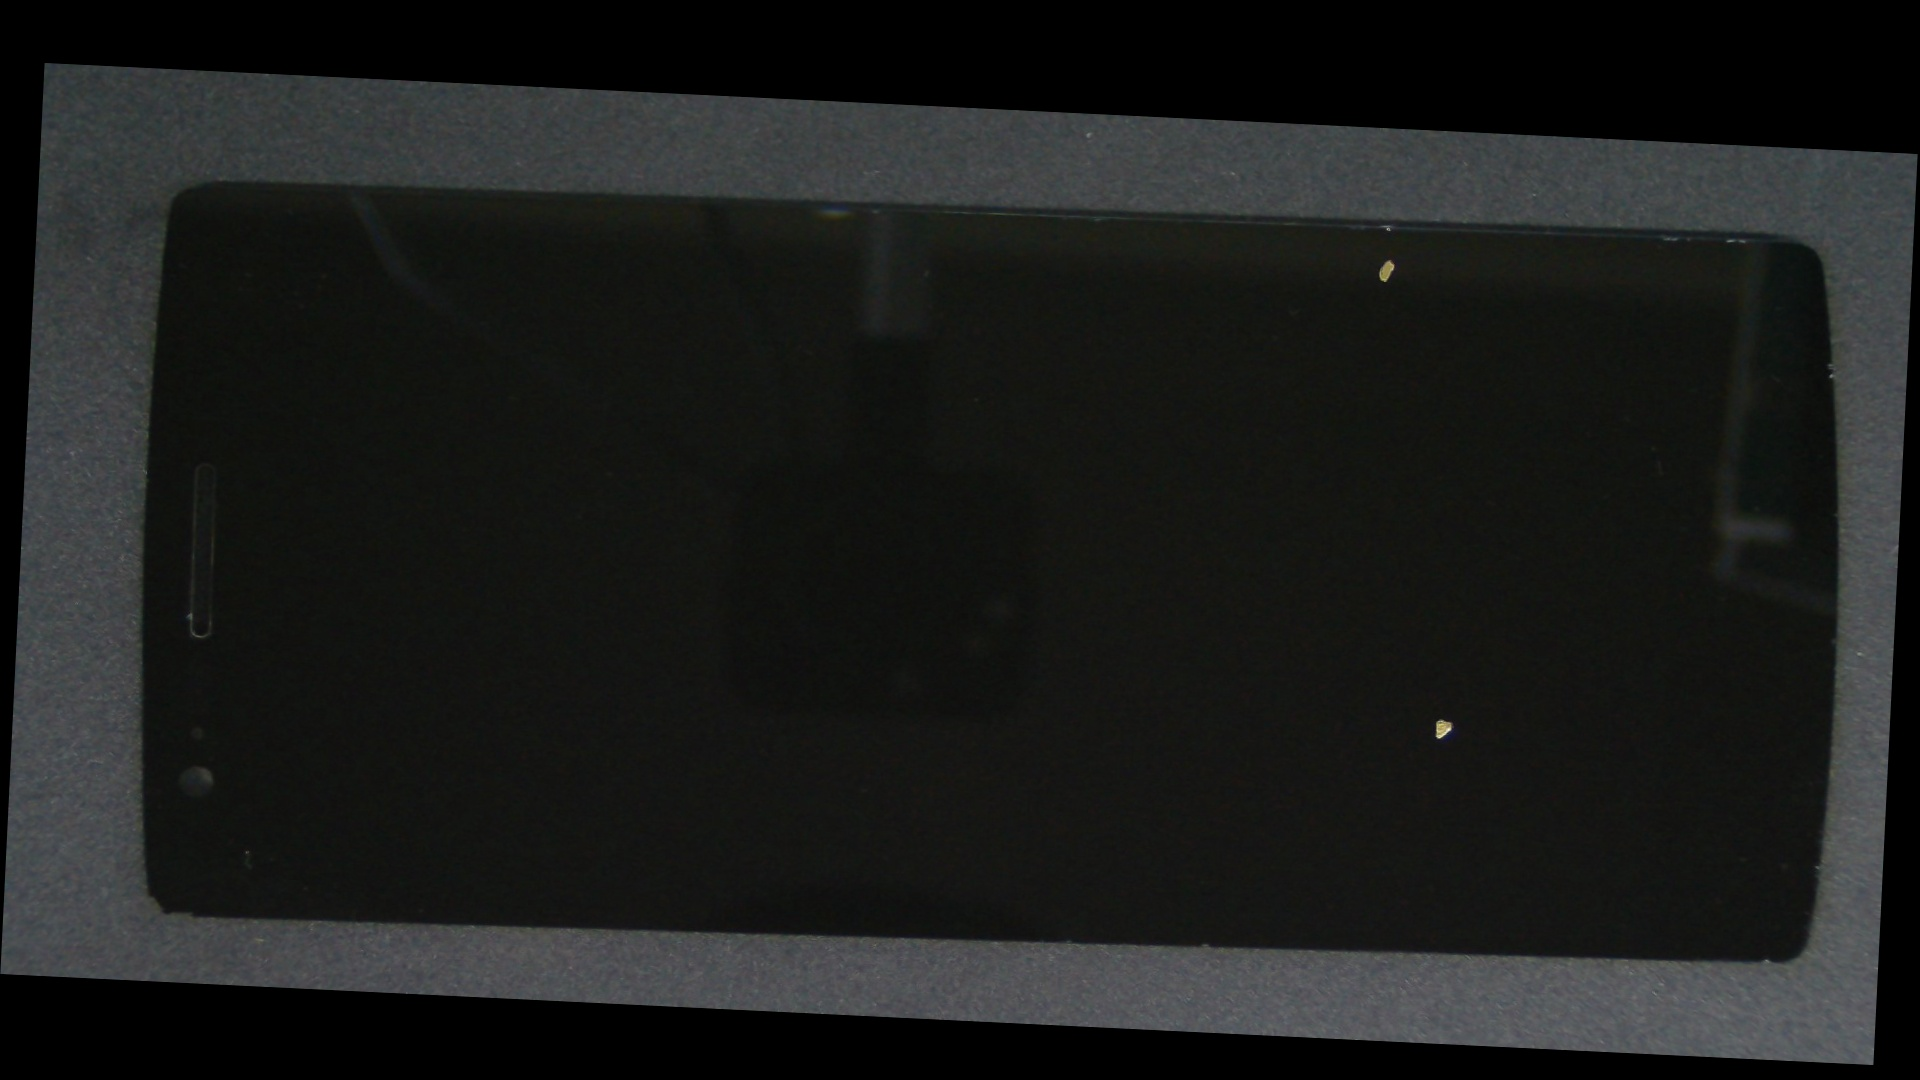oil: (715, 389, 1903, 1033), (712, 161, 1915, 351)
